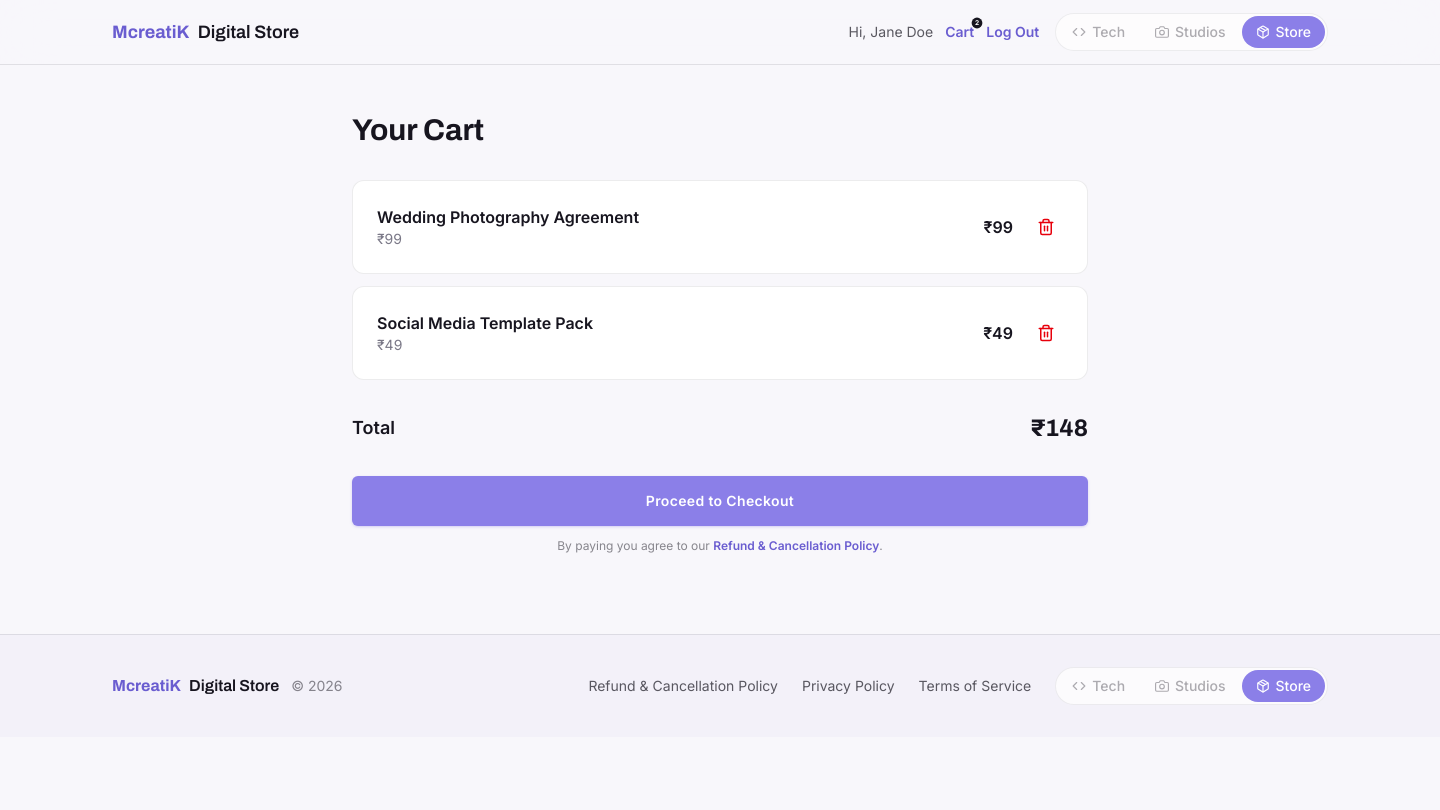
StoreCartPage — rendering the same useCart() source of truth as the Navbar badge › removing an item updates the page to exactly the server's post-removal cart, not a locally-spliced guess
Expected: the text "Wedding Photography Agreement" is shown, [377,205,639,229]
Click the button named "remove" in the row of "Wedding Photography Agreement" at [1046, 227], box [1029,210,1063,244]
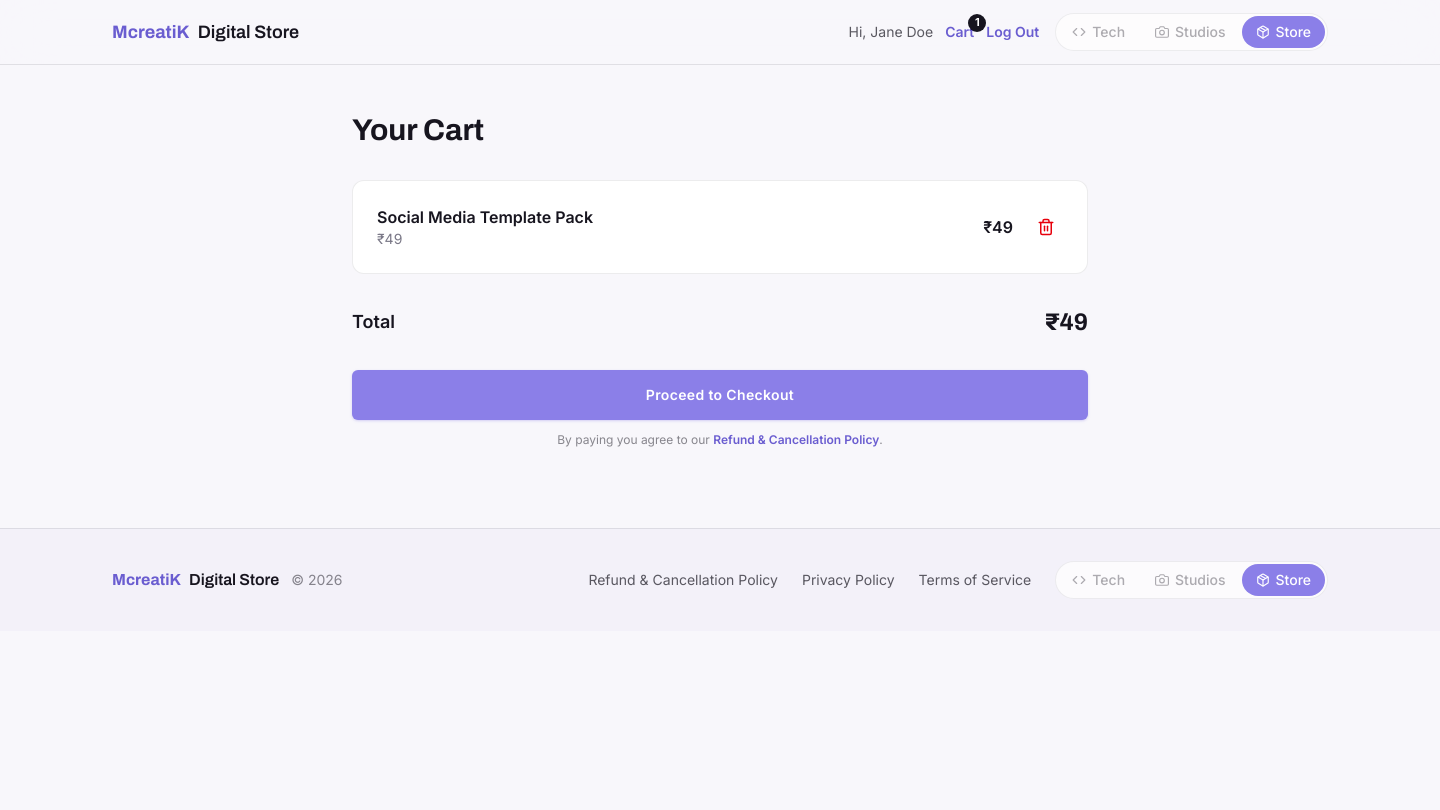
Expected: the text "Social Media Template Pack" is shown, [377,205,593,229]
Expected: the text "Wedding Photography Agreement" is gone
Expected: the text with test id "cart-total" reads "₹49", [1044,309,1088,335]
